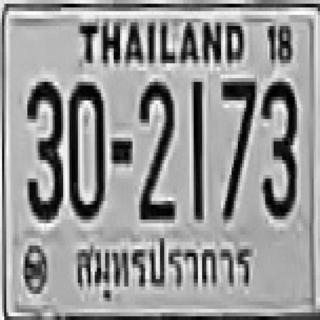N00: (67, 78, 103, 216)
N01: (192, 78, 202, 220)
N02: (137, 80, 173, 218)
N03: (25, 78, 61, 220), (261, 78, 295, 216)
N07: (219, 76, 255, 218)
P57: (70, 232, 262, 314)
